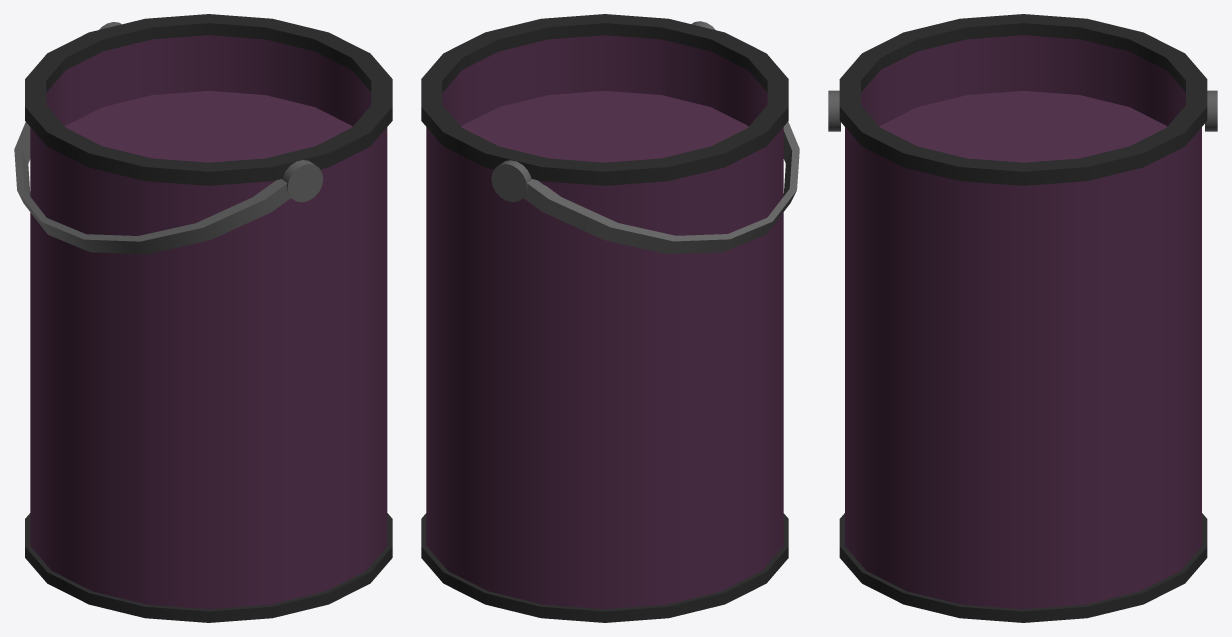
Rendered from Peinture.fbx.
3 renders of one model, left to right at view 1: azimuth 30°, elevation 25°; view 2: azimuth 150°, elevation 25°; view 3: azimuth 270°, elevation 25°, orthographic.
Visible parts, largest first — view 1: Peinture; view 2: Peinture; view 3: Peinture.
Part boxes in pixels (bbox=[...]): Peinture: bbox=[14, 14, 392, 622]; Peinture: bbox=[421, 14, 799, 622]; Peinture: bbox=[828, 14, 1217, 622].
Bounding box in the file's own units: 24.67 × 32.3 × 25.26.
